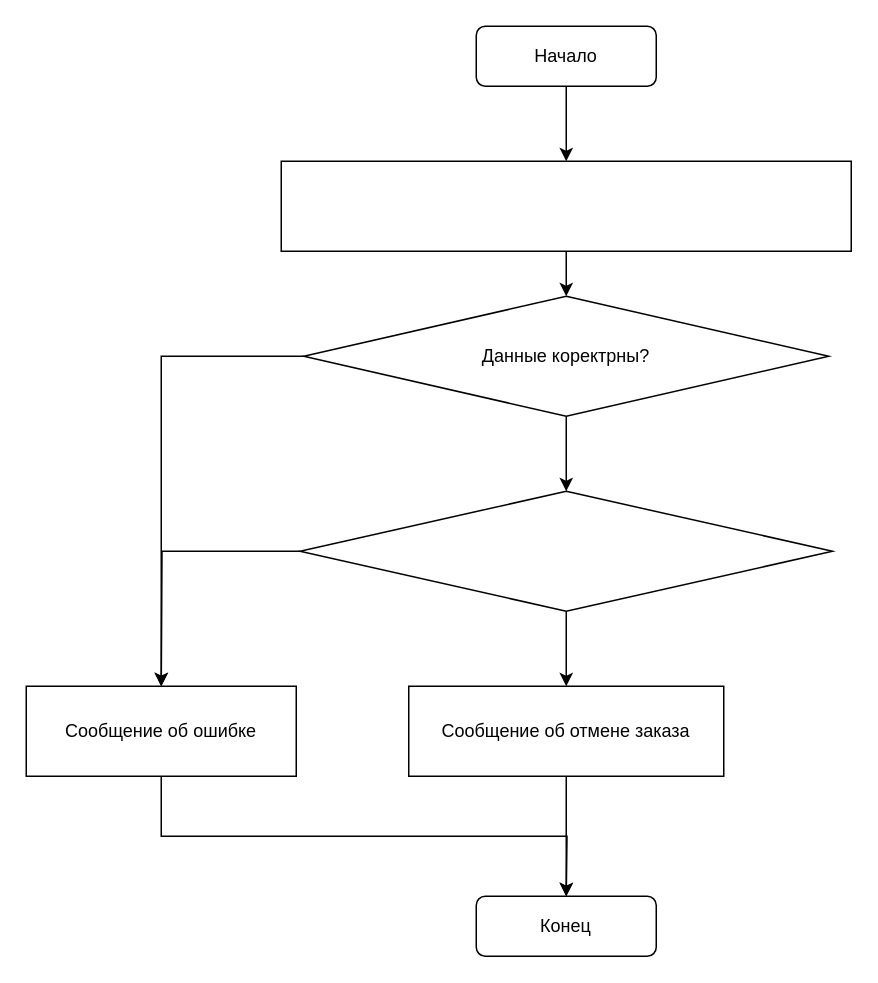
Some shapes in this 878 by 983 pixel diagram are drawn without their labels. The centre of each missing label's shape, as x and y in pixels:
Tсть ли такой электронный адрес и номер телефона в базе данных: [565,550]
Заполнение поля «Электронный адрес» и «Номер телефона»: [565,205]
